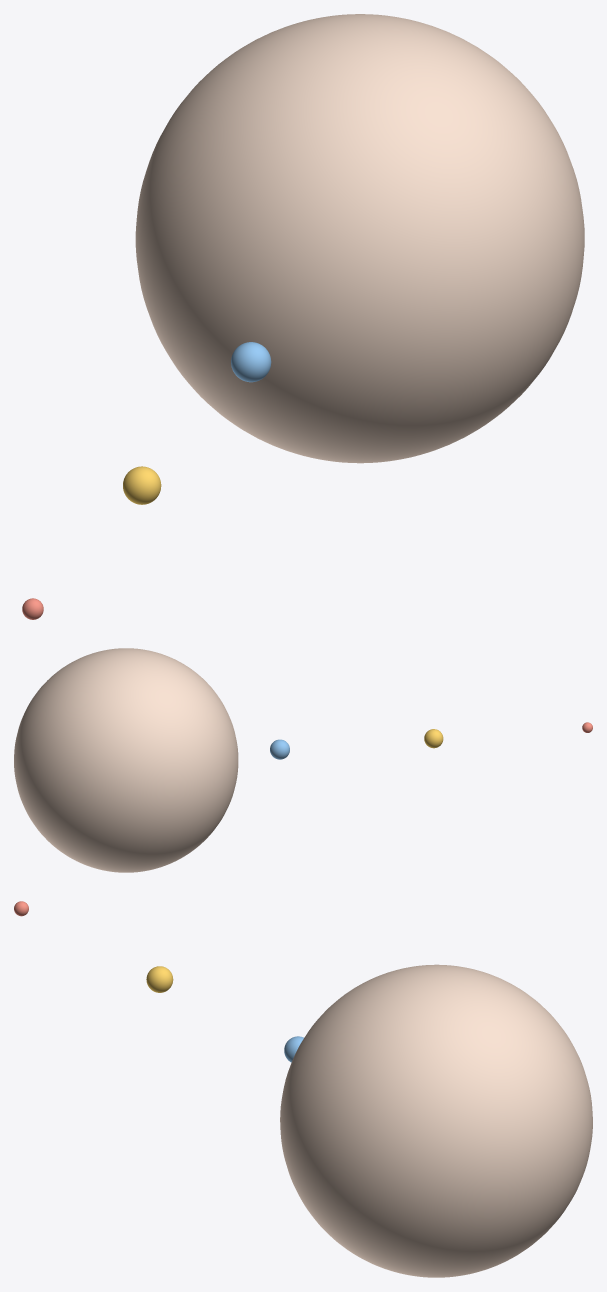
3 views of the same model, one above another, from view 1: azimuth 30°, elevation 25°; view 2: azimuth 150°, elevation 25°; view 3: azimuth 270°, elevation 25° (orthographic). The views are drawn at different scales.
Visible parts, largest first — view 1: Jupiter, Earth, Venus; view 2: Jupiter, Earth, Venus; view 3: Jupiter, Venus.
Part boxes in pixels (bbox=[...]): Jupiter: bbox=[135, 14, 584, 463]; Earth: bbox=[231, 342, 271, 382]; Venus: bbox=[123, 466, 161, 504]; Jupiter: bbox=[14, 648, 238, 872]; Earth: bbox=[270, 739, 289, 759]; Venus: bbox=[424, 729, 443, 748]; Jupiter: bbox=[280, 964, 592, 1277]; Venus: bbox=[146, 966, 173, 992].
Bounding box in the file's own units: 30.68 × 14.4 × 26.64.
